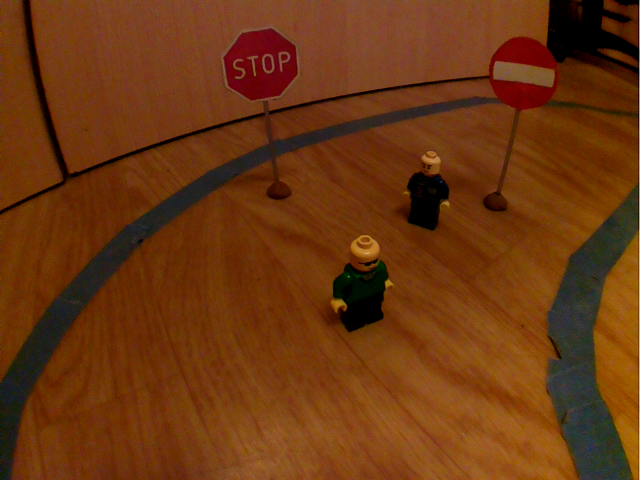Postac LEGO: (328, 230, 399, 342), (400, 147, 459, 239)
Stop: (215, 20, 305, 108)
Zakaz: (484, 31, 568, 113)
